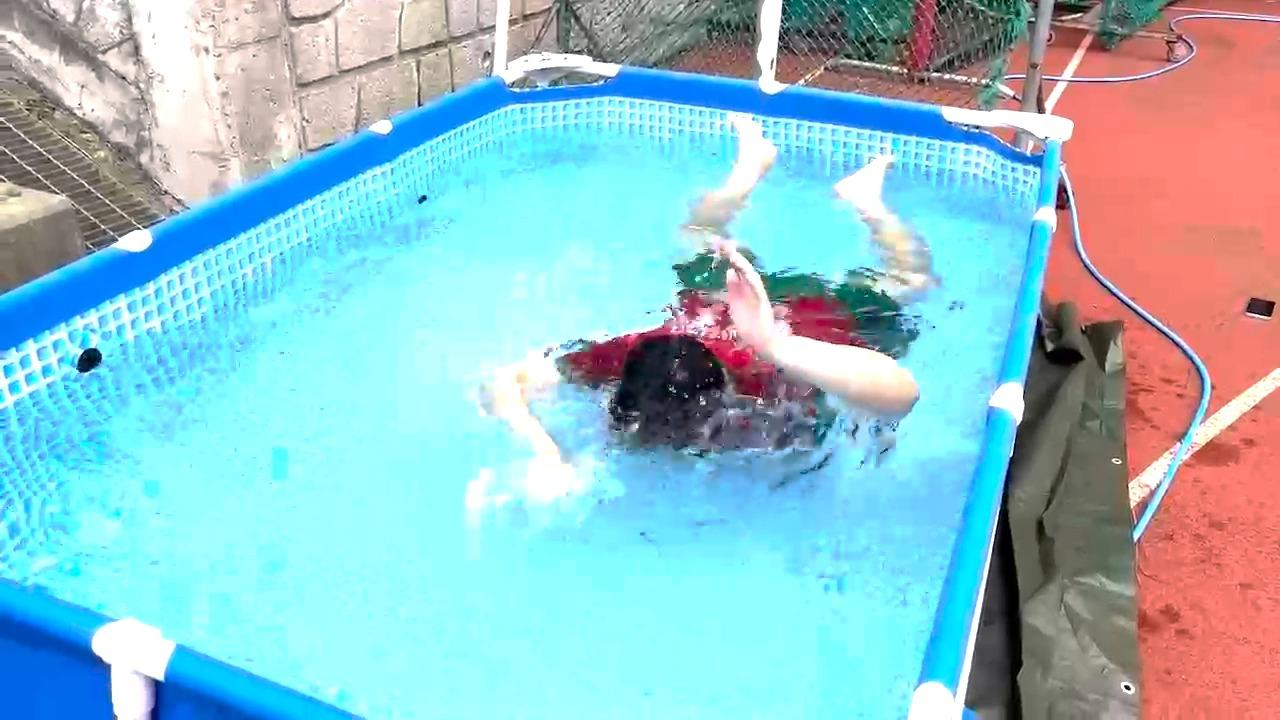Drowning: (422, 96, 965, 533)
